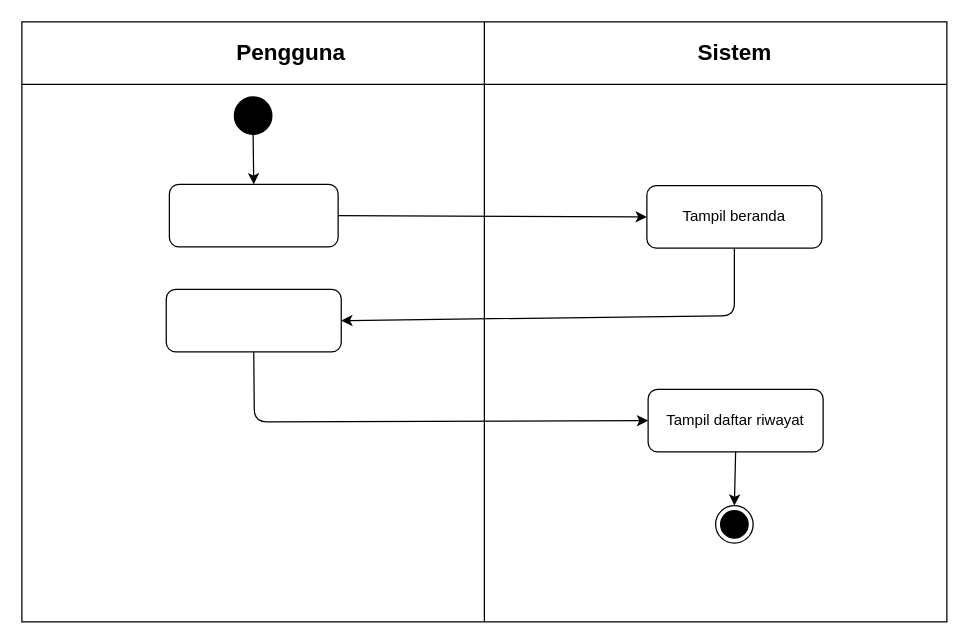
The diagram is 969 pixels wide and 644 high, and some of its shapes have lost their labels. The shapes that lost their labels are listed below. From the top down, each one's centre as x and y in pixels, then its label:
At point 253,215: "Pilih Halaman Home/beranda".
At point 253,320: "Pilih menu riwayat".
